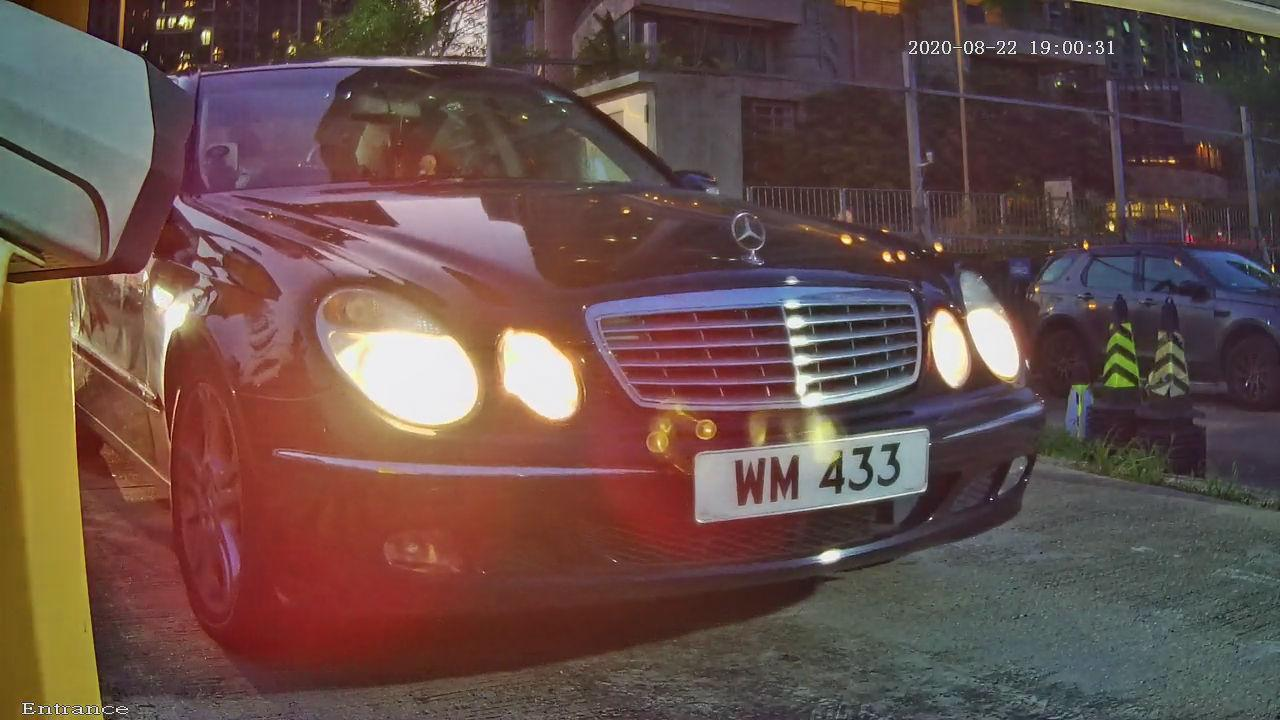Car: (48, 49, 1139, 679)
License Plate: (644, 388, 953, 577)
